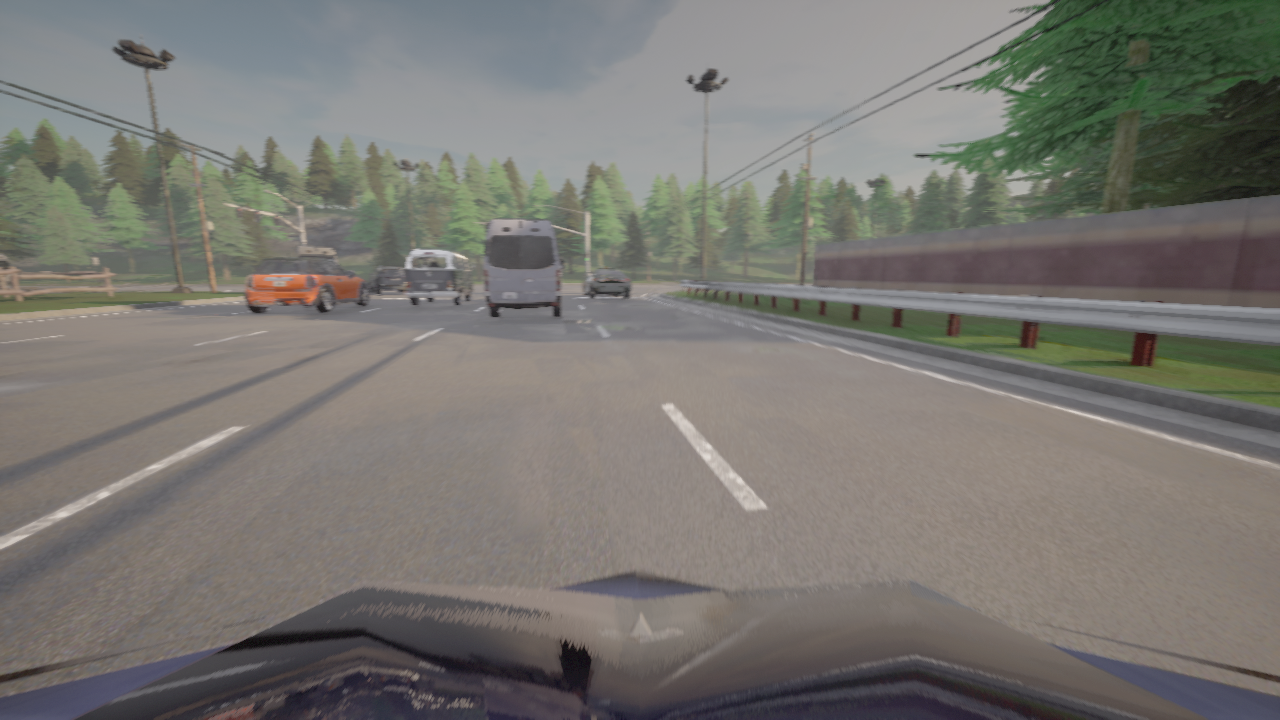cyclist: (0, 569, 1279, 719), (484, 220, 564, 317), (245, 257, 369, 313), (405, 249, 474, 306), (583, 267, 630, 298), (367, 266, 405, 294), (296, 246, 338, 264)
